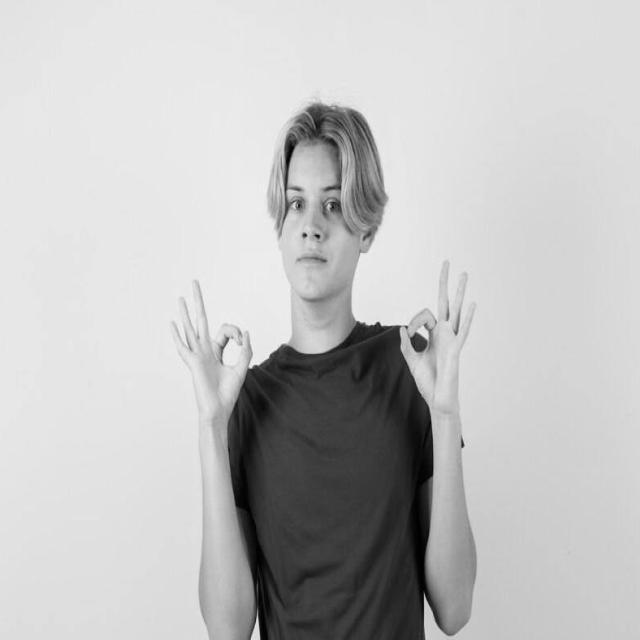perfect: (165, 270, 259, 441), (394, 250, 480, 421)
